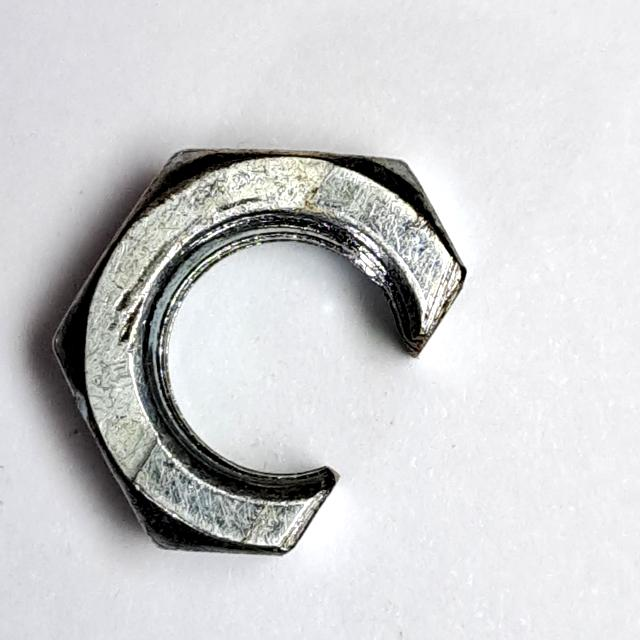Fracture: (43, 123, 476, 570)
